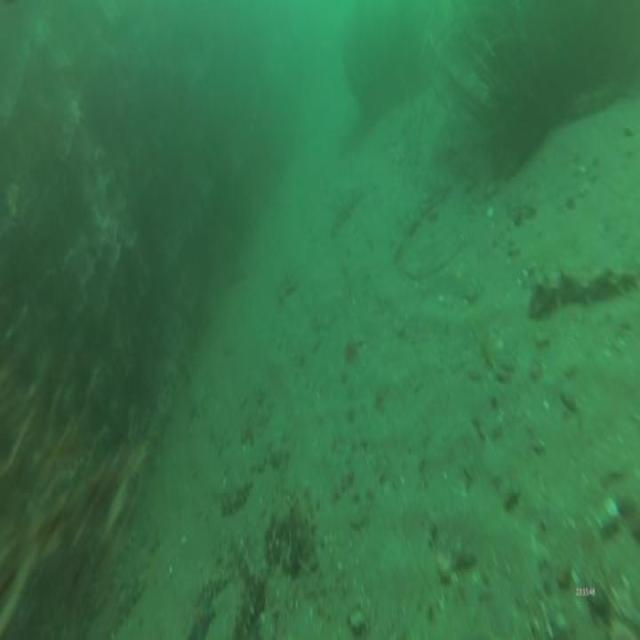holothurian: (521, 251, 638, 318), (288, 493, 321, 583), (230, 569, 266, 640)
